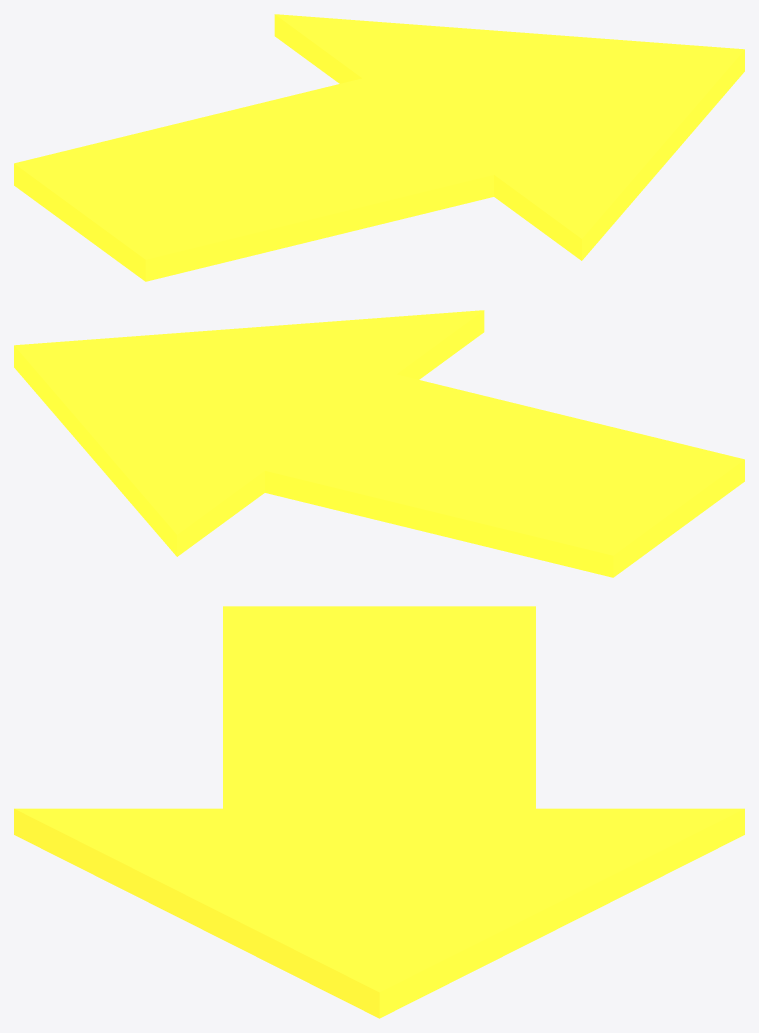
The model's file is belt_arrow.glb.
The picture shows the model from 3 angles, top to bottom: view 1: azimuth 30°, elevation 25°; view 2: azimuth 150°, elevation 25°; view 3: azimuth 270°, elevation 25°; orthographic projection. The views are drawn at different scales.
Visible parts, largest first — view 1: belt_arrow; view 2: belt_arrow; view 3: belt_arrow.
Boxes of the visible parts, left/top/right/bottom form: belt_arrow: left=14, top=14, right=744, bottom=281; belt_arrow: left=14, top=310, right=744, bottom=577; belt_arrow: left=14, top=606, right=744, bottom=1018.
Size of the model in its own units: 0.945 by 0.03 by 0.756.
